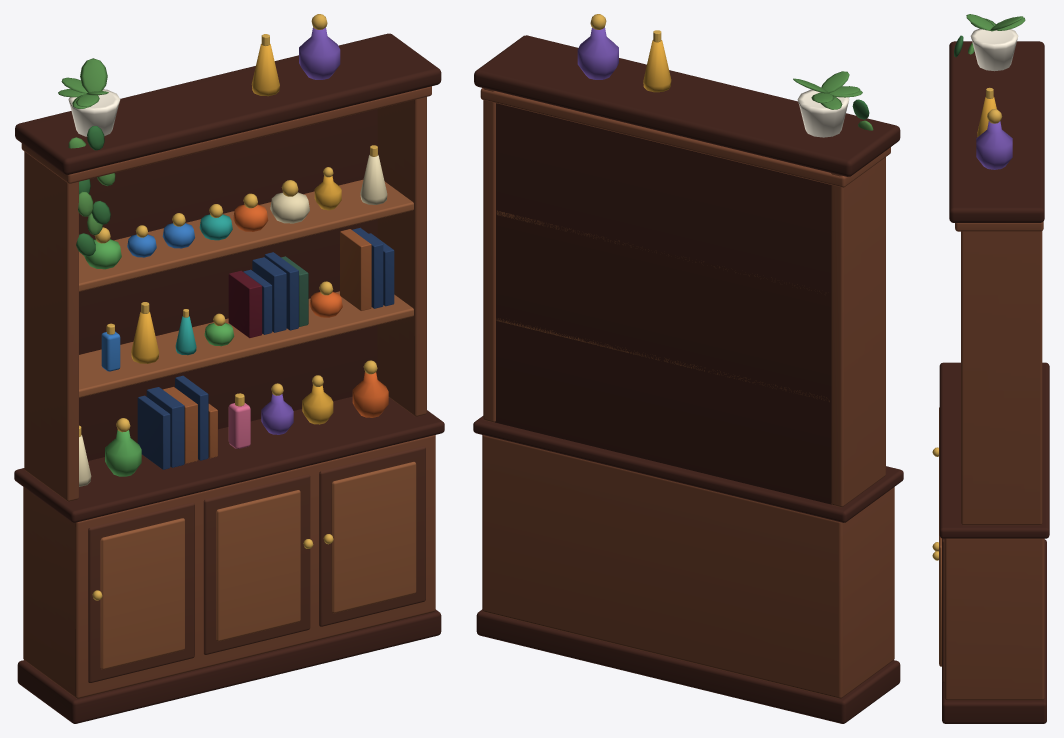
Rendered from shelf-tall-a.glb.
3 views of the same model, side by side, from view 1: azimuth 30°, elevation 25°; view 2: azimuth 150°, elevation 25°; view 3: azimuth 270°, elevation 25° (orthographic). The views are drawn at different scales.
Visible parts, largest first — view 1: shelf-tall-a; view 2: shelf-tall-a; view 3: shelf-tall-a.
Part boxes in pixels (x1,y1,x2,y2): shelf-tall-a: (14,14,444,723); shelf-tall-a: (473,14,903,723); shelf-tall-a: (932,14,1049,723).
Bounding box in the file's own units: 1.68 × 2.65 × 0.49.
